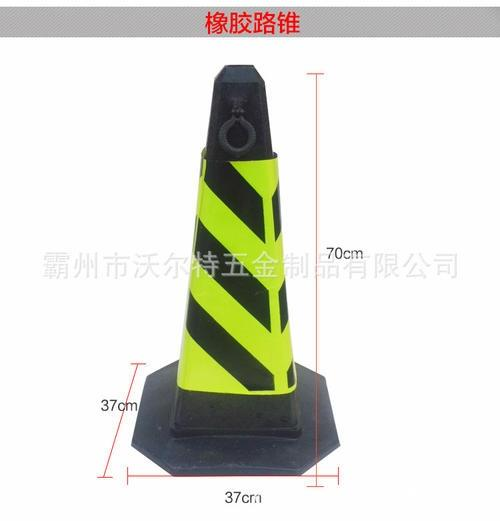cone_barrel: (143, 70, 328, 455)
